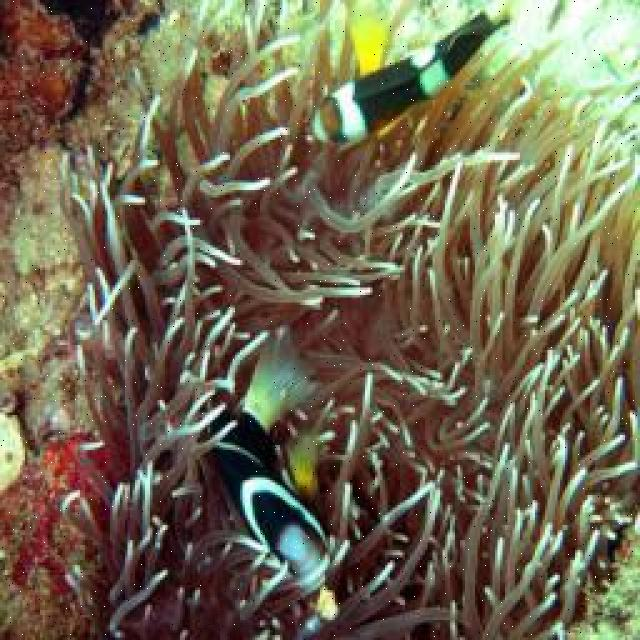fish: (198, 322, 328, 579), (309, 0, 516, 153)
reefs: (33, 0, 638, 638)
